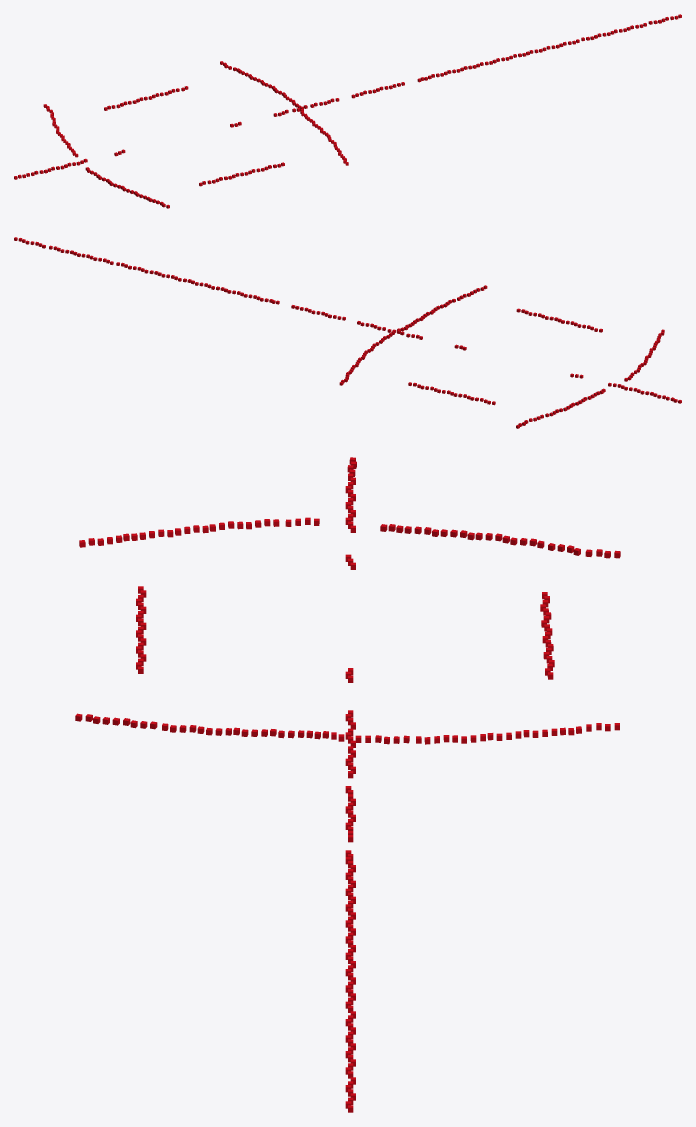
The model's file is HSBC Entorno_10_CAPAS_PISO.fbx.
3 views of the same model, one above another, from view 1: azimuth 30°, elevation 25°; view 2: azimuth 150°, elevation 25°; view 3: azimuth 270°, elevation 25° (orthographic). The views are drawn at different scales.
Size of what is drawn, in the model's own units: 19364 by 69.4 by 6865.
